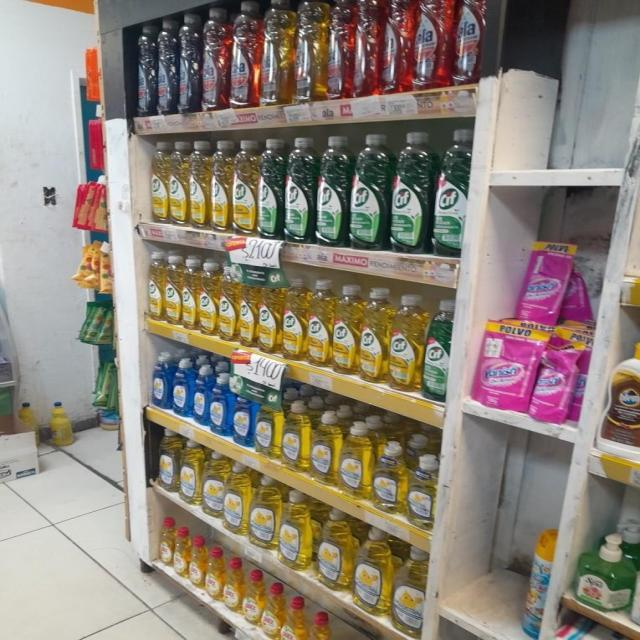ala_conc_amarillo: (262, 0, 294, 106), (295, 0, 327, 104)
ala_conc_azul: (180, 11, 202, 114)
ala_conc_rojo: (414, 0, 453, 90), (230, 1, 260, 109), (454, 0, 490, 85), (202, 7, 230, 112), (383, 0, 414, 93), (328, 0, 355, 101), (357, 0, 382, 99)
cif_conc_bot_amarilla: (389, 292, 422, 392), (359, 286, 388, 383), (232, 138, 258, 237), (332, 283, 358, 375), (307, 278, 331, 367), (282, 275, 306, 361), (211, 139, 232, 234), (189, 140, 210, 231), (258, 273, 281, 354), (218, 262, 238, 342), (170, 140, 188, 228), (150, 140, 168, 224), (238, 269, 257, 348), (199, 260, 217, 336), (164, 254, 181, 325), (182, 256, 198, 331), (147, 251, 163, 322)
cif_conc_botella_verde: (391, 130, 431, 254), (433, 128, 471, 258), (350, 133, 389, 251), (316, 134, 348, 248), (284, 136, 314, 244), (424, 299, 454, 403), (258, 137, 284, 240)
magistral_con_amarillo: (354, 527, 391, 616), (392, 547, 426, 639), (316, 508, 352, 591), (279, 489, 312, 570), (338, 420, 371, 499), (373, 440, 405, 514), (407, 453, 438, 529), (310, 409, 338, 485), (250, 476, 278, 550), (282, 400, 309, 472), (224, 461, 249, 535), (202, 451, 225, 518), (254, 401, 280, 458), (156, 429, 178, 493), (180, 440, 200, 507)
magistral_con_azul: (209, 369, 230, 437), (232, 390, 252, 447), (172, 358, 191, 418), (193, 361, 208, 426)
